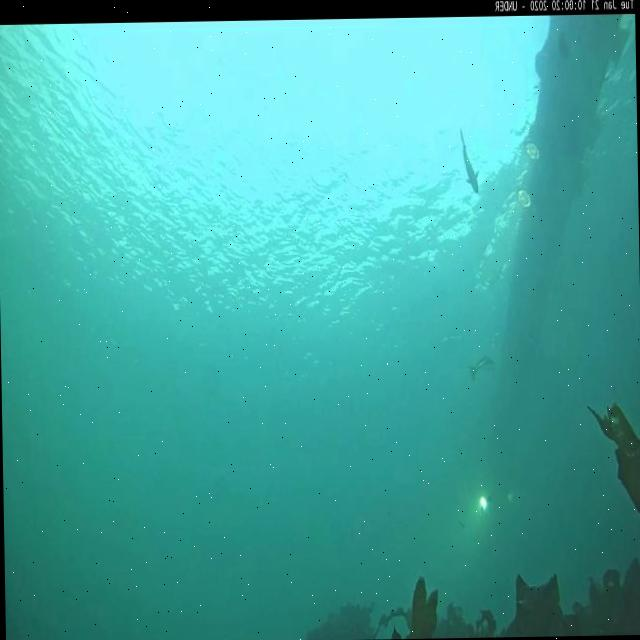fish: (458, 124, 479, 196), (467, 354, 495, 384)
